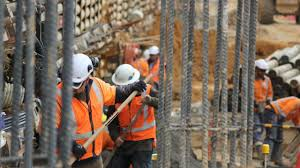hard hat: (71, 53, 94, 82), (111, 64, 140, 86), (255, 59, 269, 70), (146, 45, 160, 54)
high-vis: (56, 78, 108, 158), (116, 83, 155, 142), (266, 97, 300, 119), (137, 57, 160, 82), (254, 76, 272, 104)
